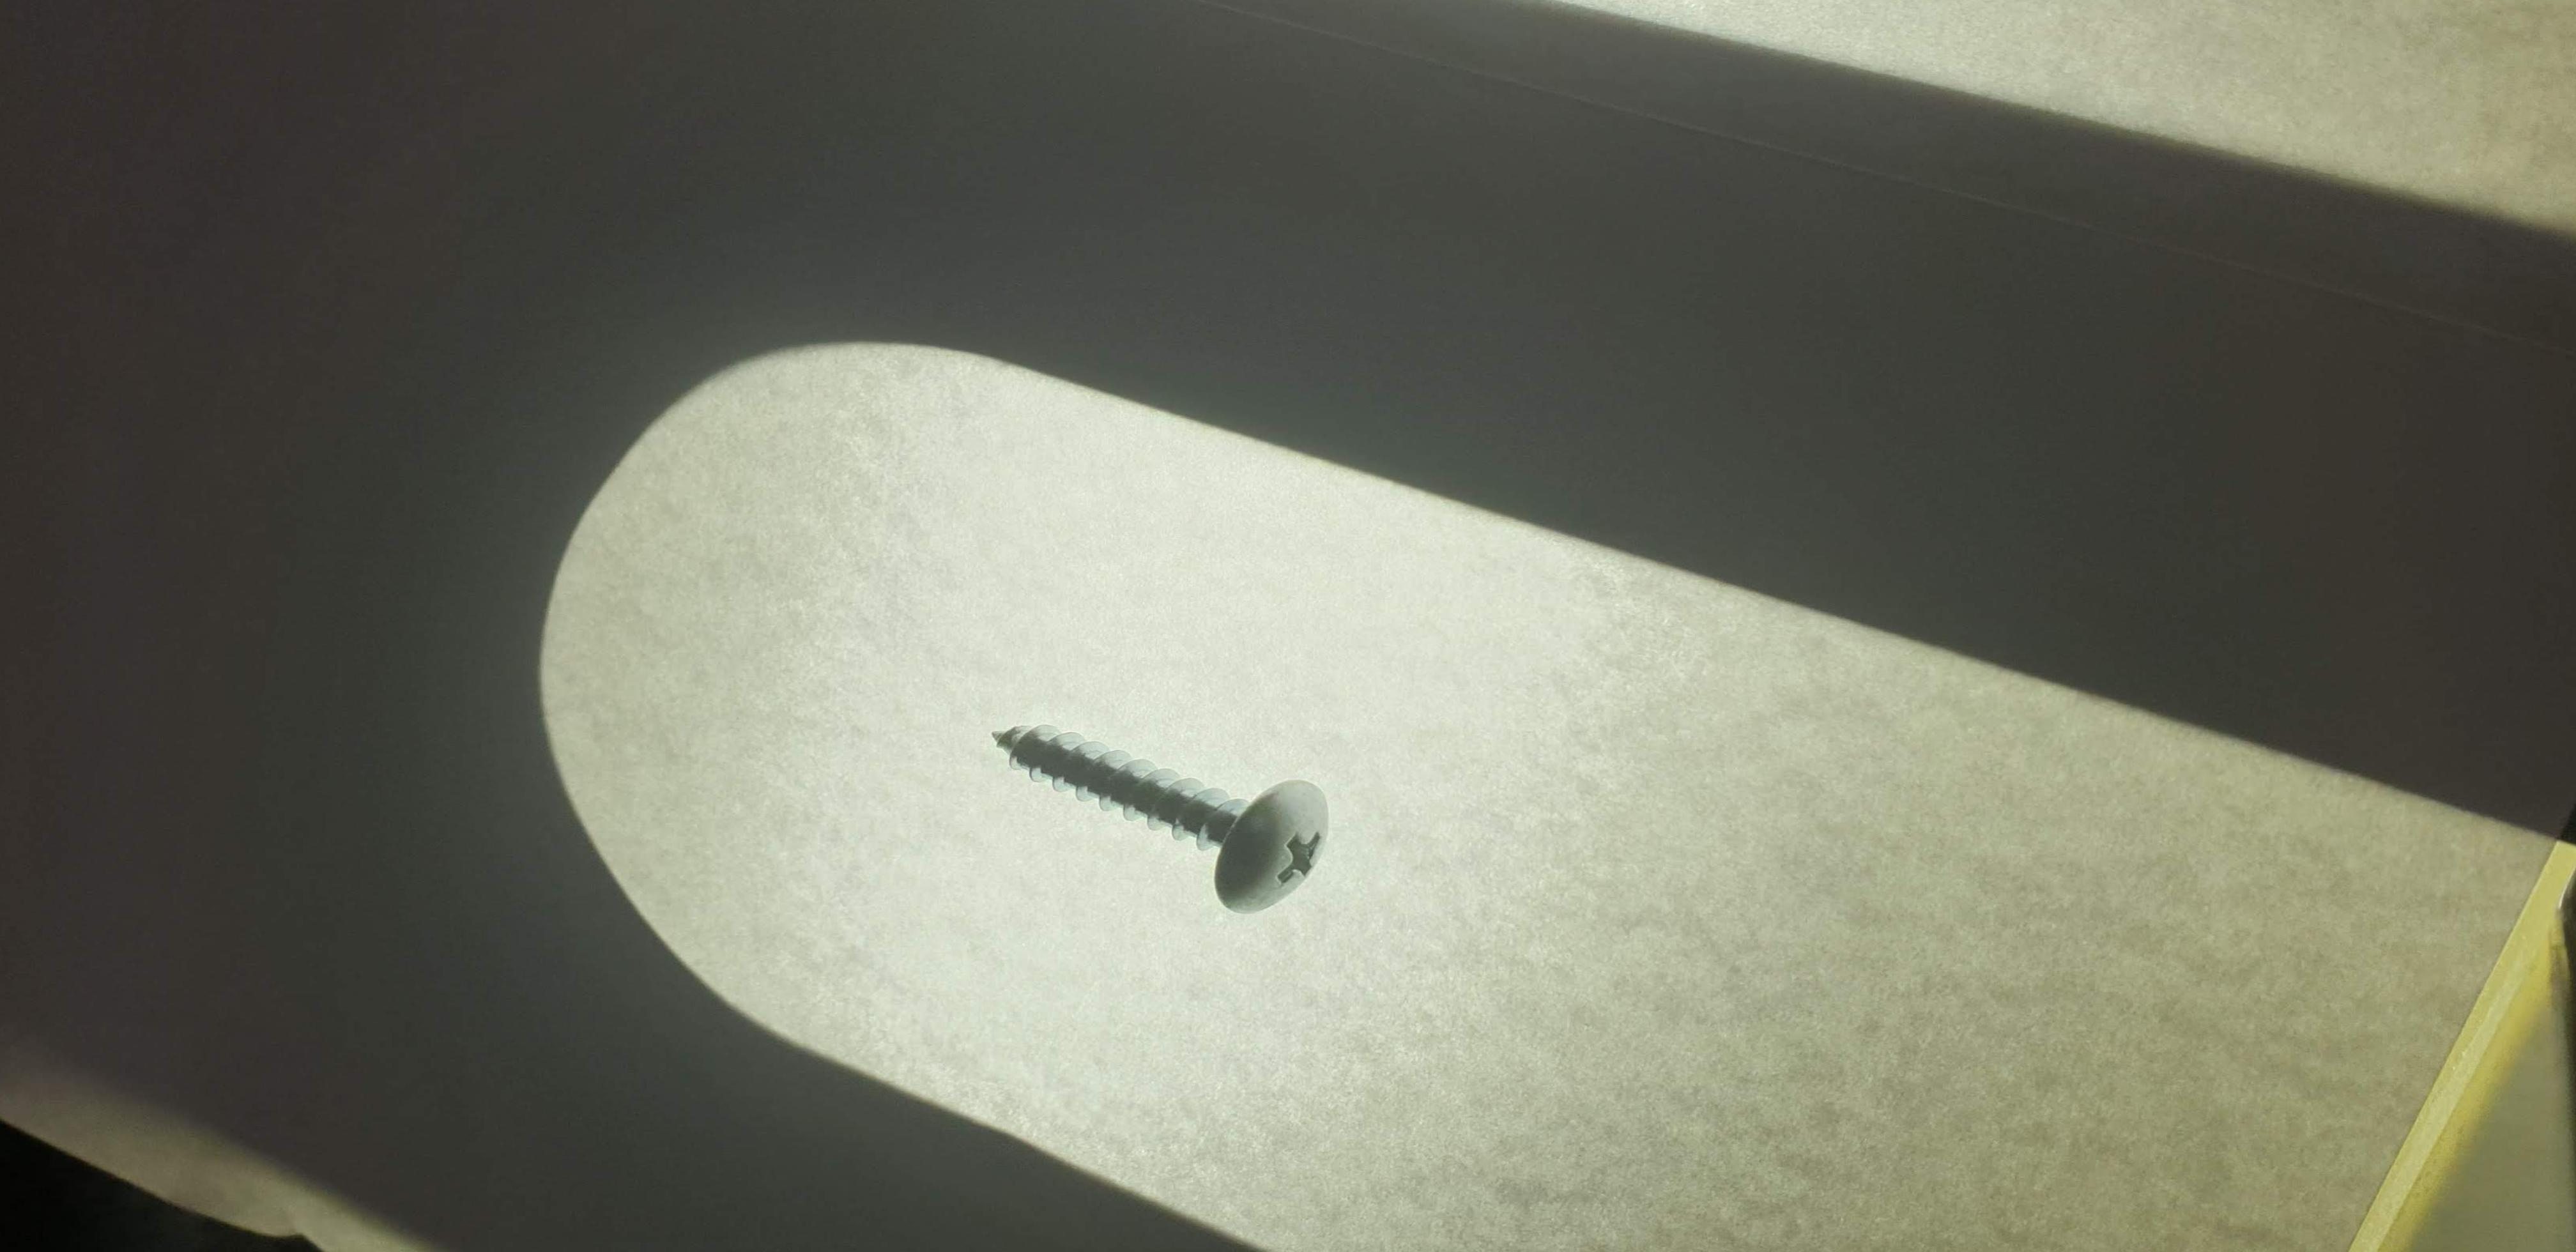S002: (964, 680, 1375, 946)
